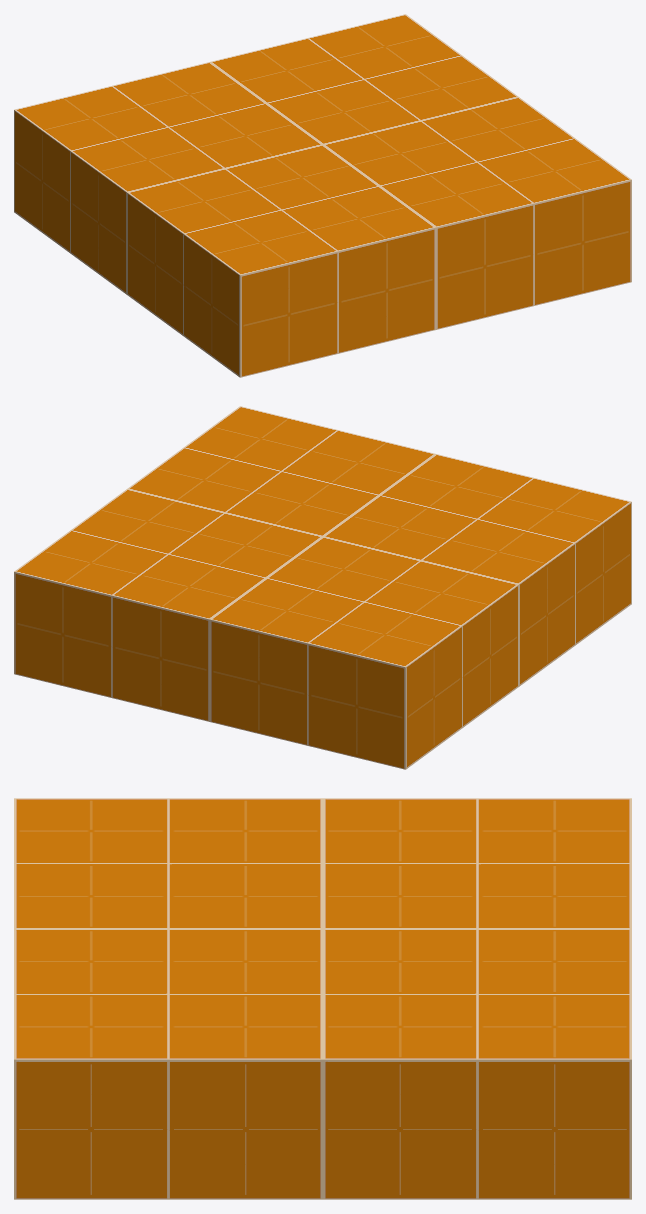
The model's file is Plate2_2x2.obj.
The picture shows the model from 3 angles, top to bottom: view 1: azimuth 30°, elevation 25°; view 2: azimuth 150°, elevation 25°; view 3: azimuth 270°, elevation 25°; orthographic projection. The views are drawn at different scales.
Visible parts, largest first — view 1: Plate2_2x2_Cube.279; view 2: Plate2_2x2_Cube.279; view 3: Plate2_2x2_Cube.279.
Boxes of the visible parts, box(x1,y1,x2,y2) form: Plate2_2x2_Cube.279: box(14, 14, 631, 377); Plate2_2x2_Cube.279: box(14, 406, 631, 769); Plate2_2x2_Cube.279: box(14, 798, 631, 1199).
Size of the model in its own units: 2 by 0.5 by 2.
Materials: 1 (1 with a texture image).
